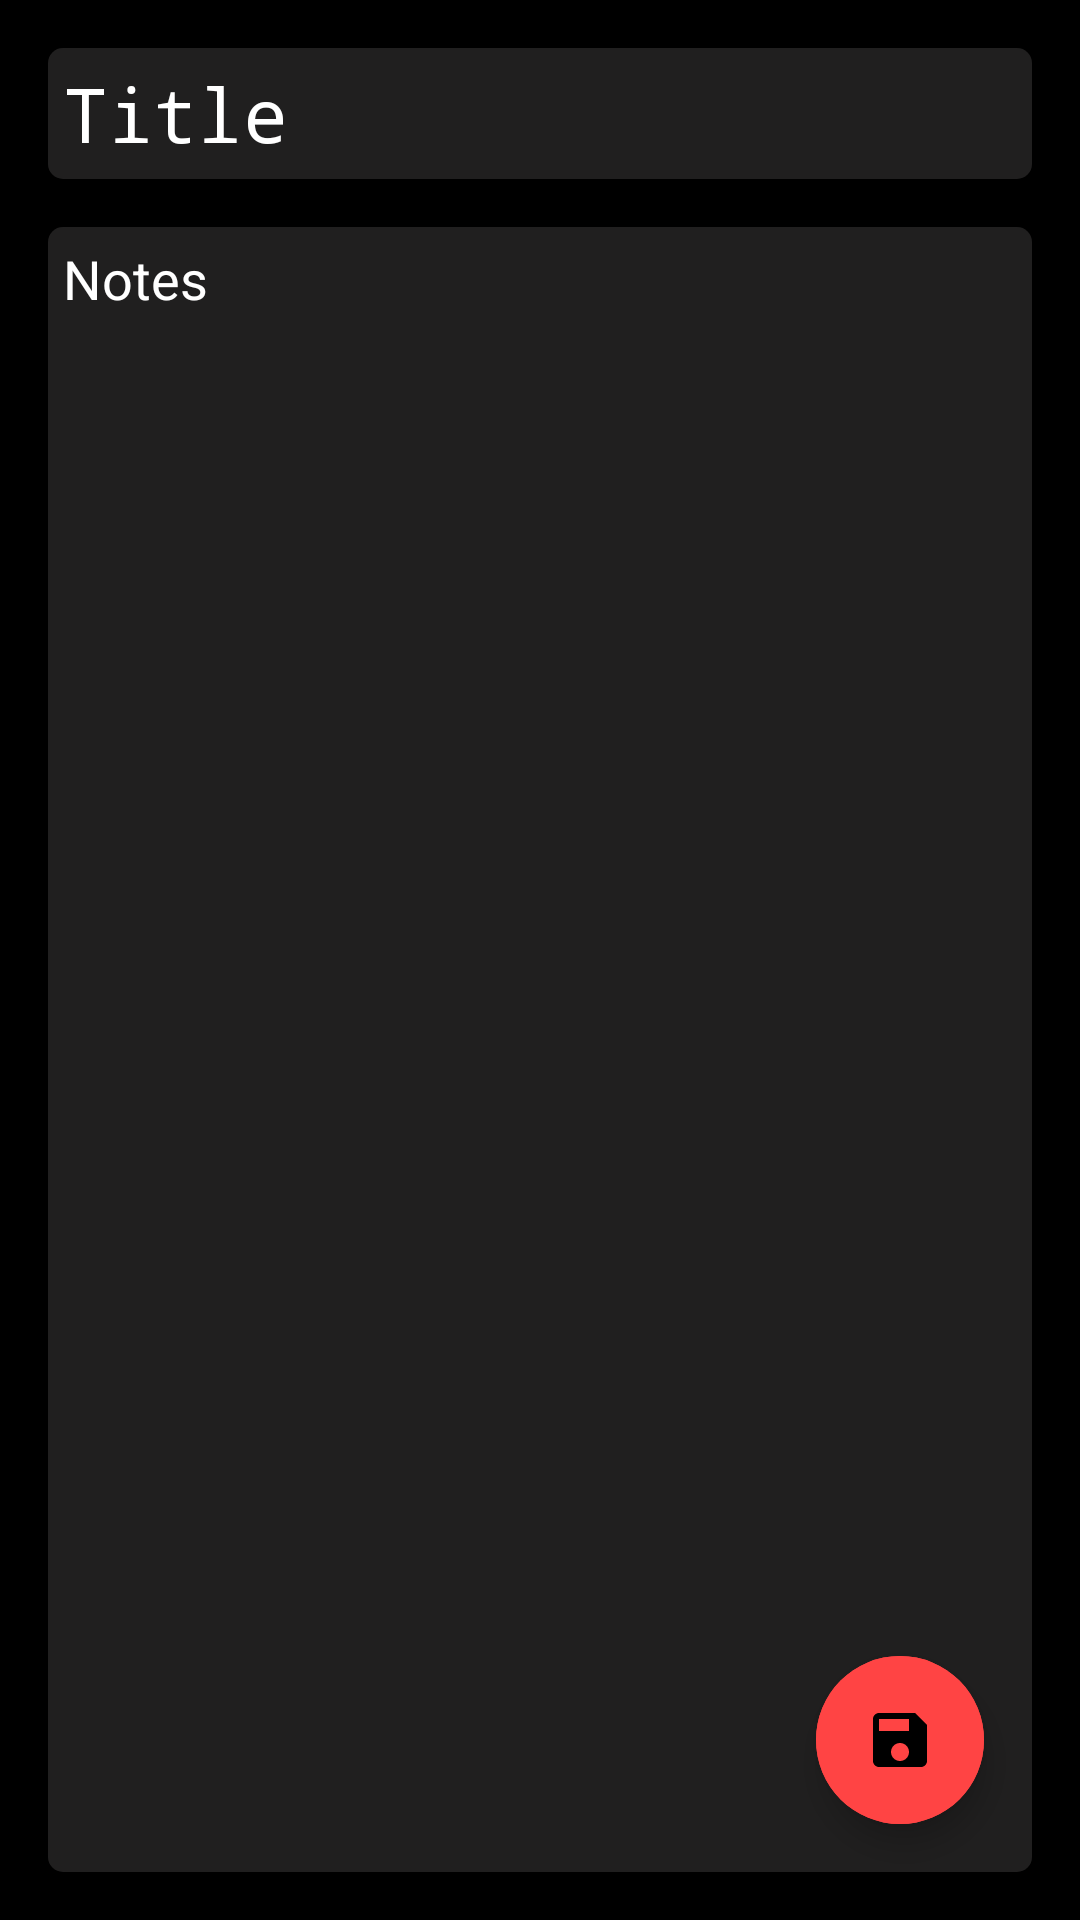

Icon click points for this 1080 x 1920 phone screenshot, format (x,y):
Save: (900,1740)
